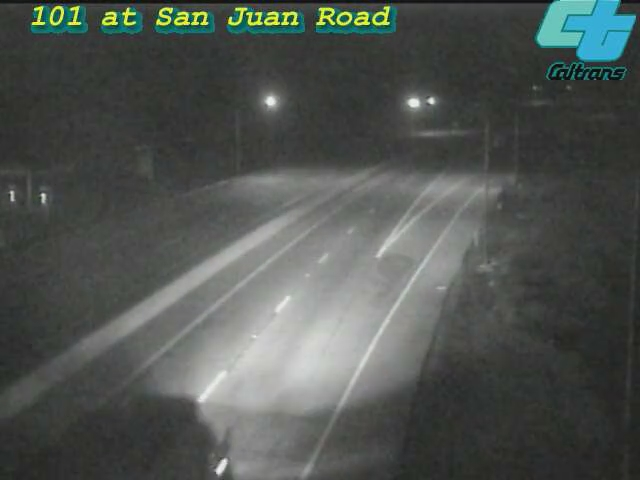vehicle: (85, 394, 195, 480)
